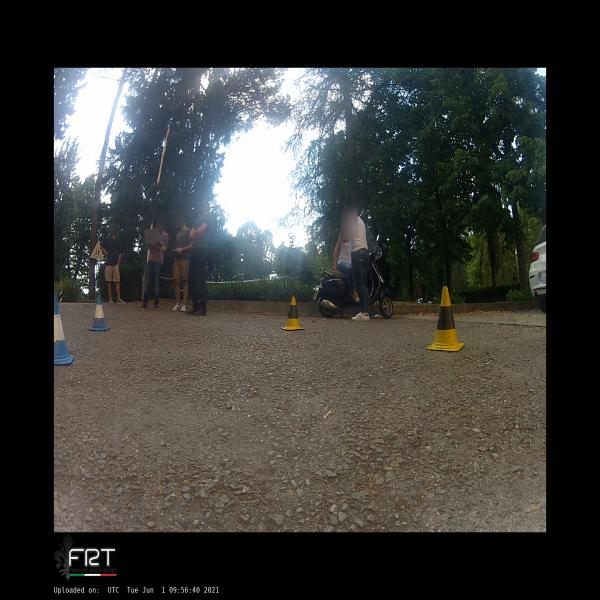blue_cone: (54, 292, 74, 366), (89, 294, 110, 331)
yellow_cone: (426, 285, 464, 352), (281, 295, 305, 330)
